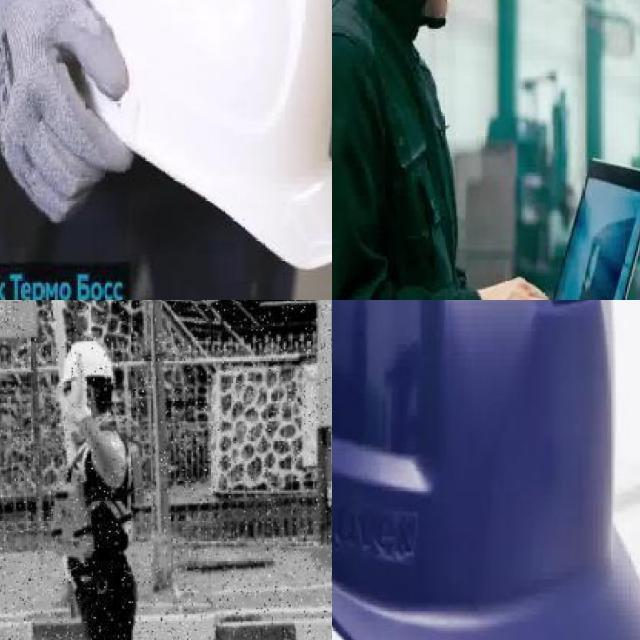apron: (0, 0, 134, 230), (68, 350, 94, 424)
